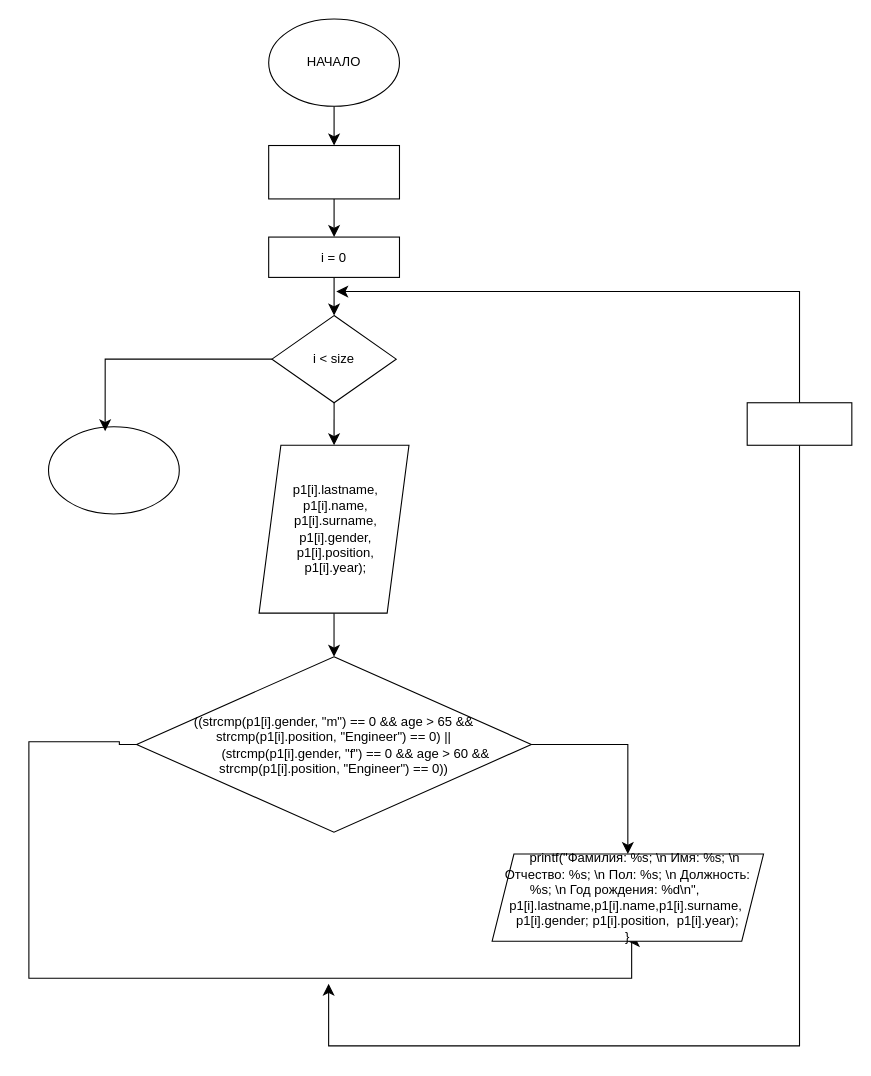
The diagram is 871 pixels wide and 1076 high, and some of its shapes have lost their labels. The shapes that lost their labels are listed below. From the top down, each one's centre as x and y in pixels, then its label:
the point at 333,171: struct employee p1[size]
the point at 799,423: i++
the point at 113,470: КОНЕЦ
